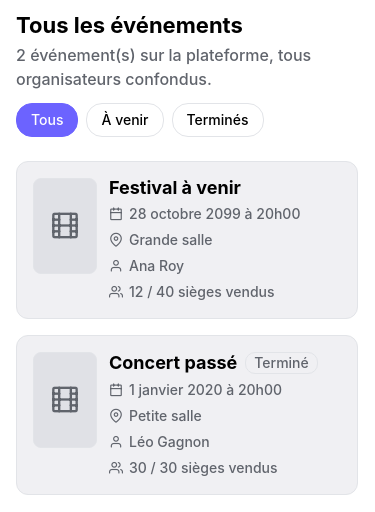
Scenario: SupervisionScreen (#36) › filtre les événements à venir et terminés
The width and height of the screenshot is (375, 512).
Click the button "Terminés".
click(218, 120)  # box [172,103,264,137]
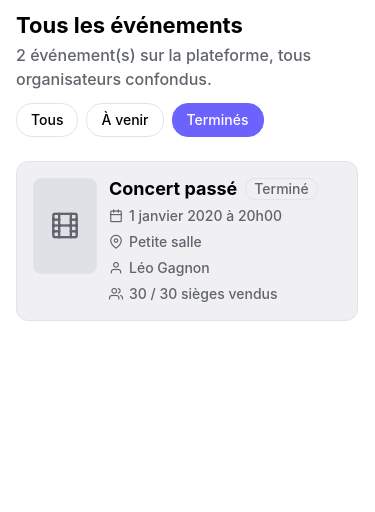
Expected: the text "Concert passé" is shown, [109,179,237,199]
Now the text "Festival à venir" is gone
Click the button "À venir".
click(125, 120)  # box [86,103,164,137]
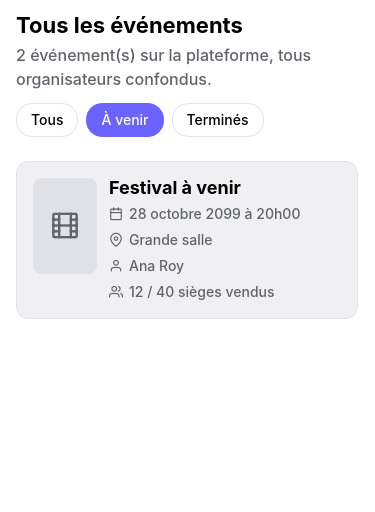
Now the text "Festival à venir" is shown, box [109,178,241,198]
Now the text "Concert passé" is gone
Click the button "Tous".
click(47, 120)  # box [16,103,78,137]
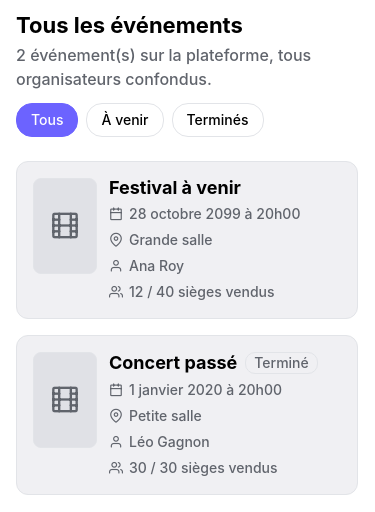
Now the text "Festival à venir" is shown, box [109,178,241,198]
Now the text "Concert passé" is shown, box [109,353,237,373]
